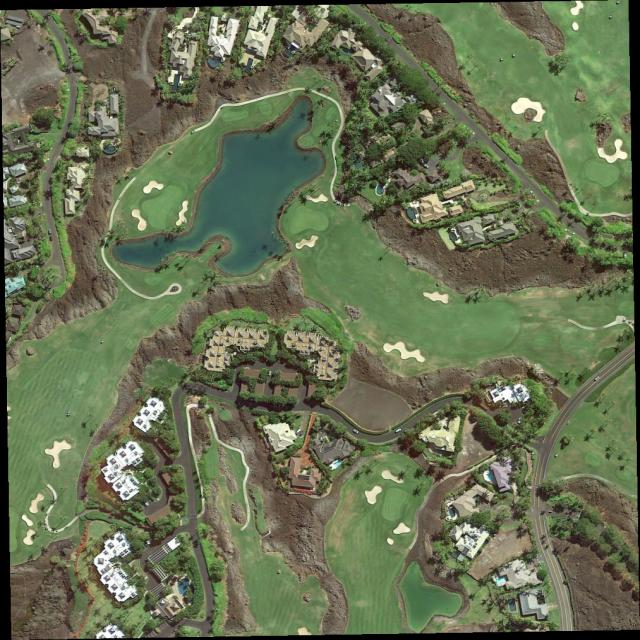small-vehicle: (295, 427, 303, 434), (423, 163, 430, 169), (299, 430, 305, 437), (353, 428, 360, 434), (66, 410, 72, 416), (145, 539, 151, 545), (395, 428, 402, 433), (143, 501, 150, 506), (595, 375, 600, 381), (48, 228, 52, 235), (50, 235, 54, 241), (624, 253, 628, 259)
